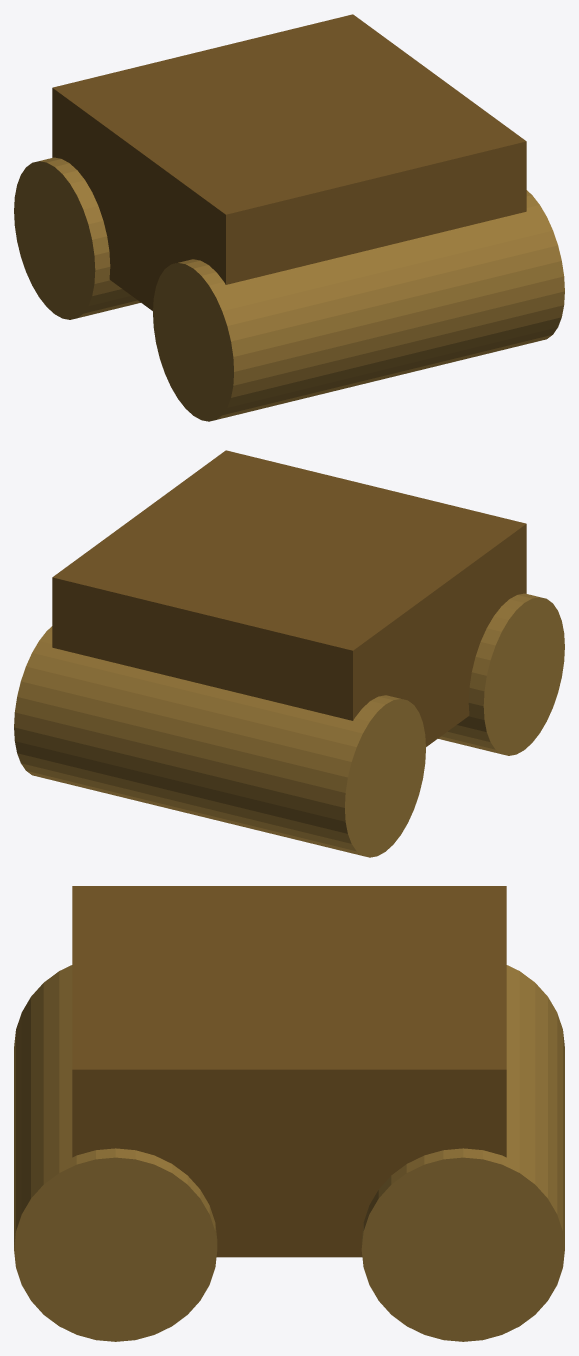
File: Pushcart.fbx
The picture shows the model from 3 angles, top to bottom: view 1: azimuth 30°, elevation 25°; view 2: azimuth 150°, elevation 25°; view 3: azimuth 270°, elevation 25°; orthographic projection. The views are drawn at different scales.
Visible parts, largest first — view 1: Cube.007, Cylinder.003, Cylinder.004; view 2: Cube.007, Cylinder.004, Cylinder.003; view 3: Cube.007, Cylinder.003, Cylinder.004.
Part boxes in pixels (x1,y1,x2,y2): Cube.007: [52, 14, 526, 310]; Cylinder.003: [153, 190, 564, 421]; Cylinder.004: [14, 157, 140, 319]; Cube.007: [52, 450, 526, 746]; Cylinder.004: [14, 626, 425, 857]; Cylinder.003: [438, 593, 564, 755]; Cube.007: [72, 886, 506, 1257]; Cylinder.003: [14, 965, 217, 1341]; Cylinder.004: [361, 965, 564, 1341].
Size of the model in its own units: 73.34 by 44.53 by 84.54.
